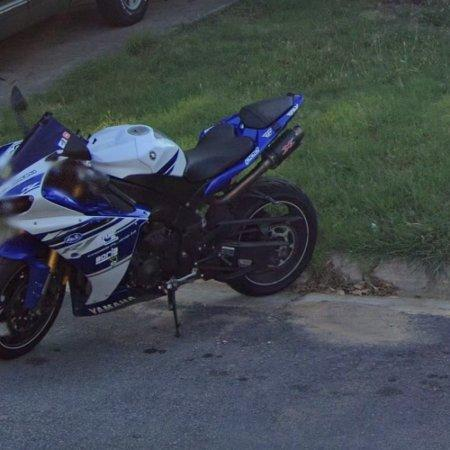motorcycles: (0, 94, 318, 360)
